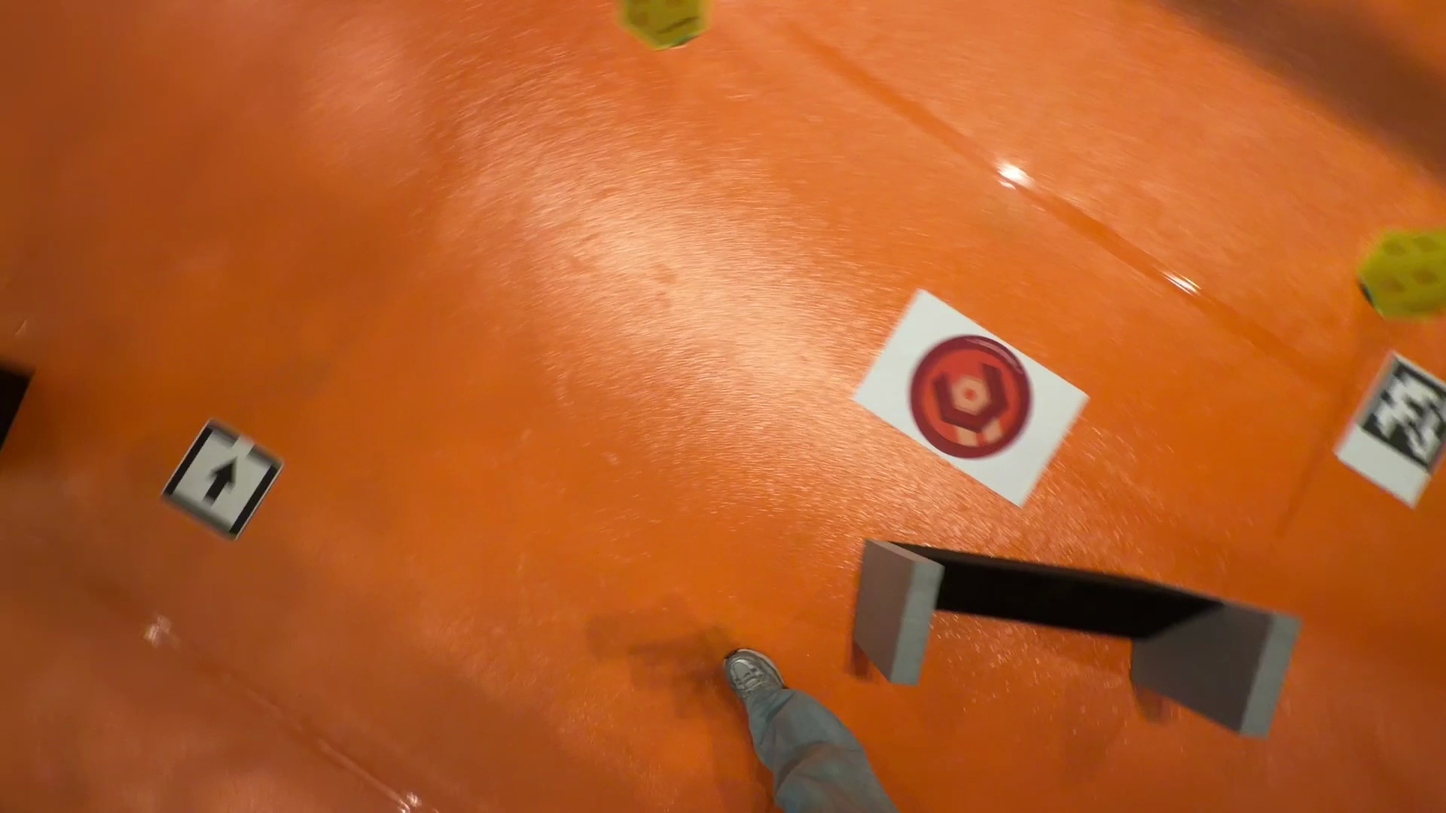landing_pad: (911, 340, 1035, 461)
